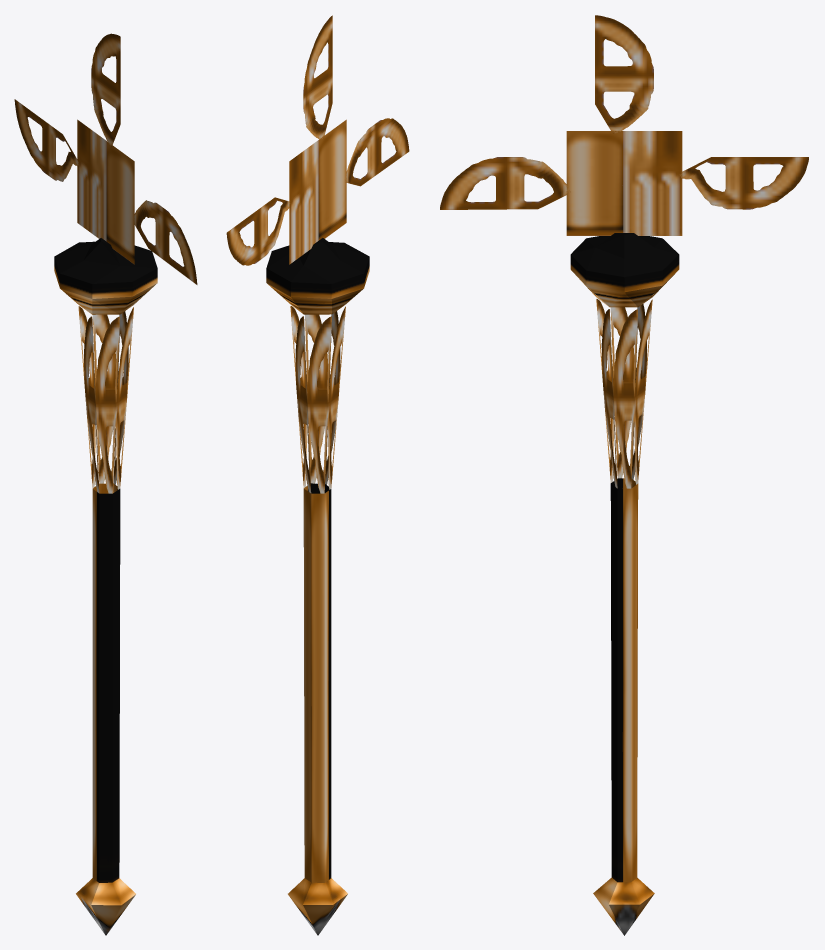
File: wavemaster04.obj
3 renders of one model, left to right at view 1: azimuth 30°, elevation 25°; view 2: azimuth 150°, elevation 25°; view 3: azimuth 270°, elevation 25°, orthographic.
Visible parts, largest first — view 1: wavemaster04; view 2: wavemaster04; view 3: wavemaster04.
Part boxes in pixels (x1,y1,x2,y2): wavemaster04: (14, 33, 197, 935); wavemaster04: (226, 15, 409, 935); wavemaster04: (440, 15, 808, 935).
Size of the model in its own units: 0.1375 by 1.3 by 0.475.
